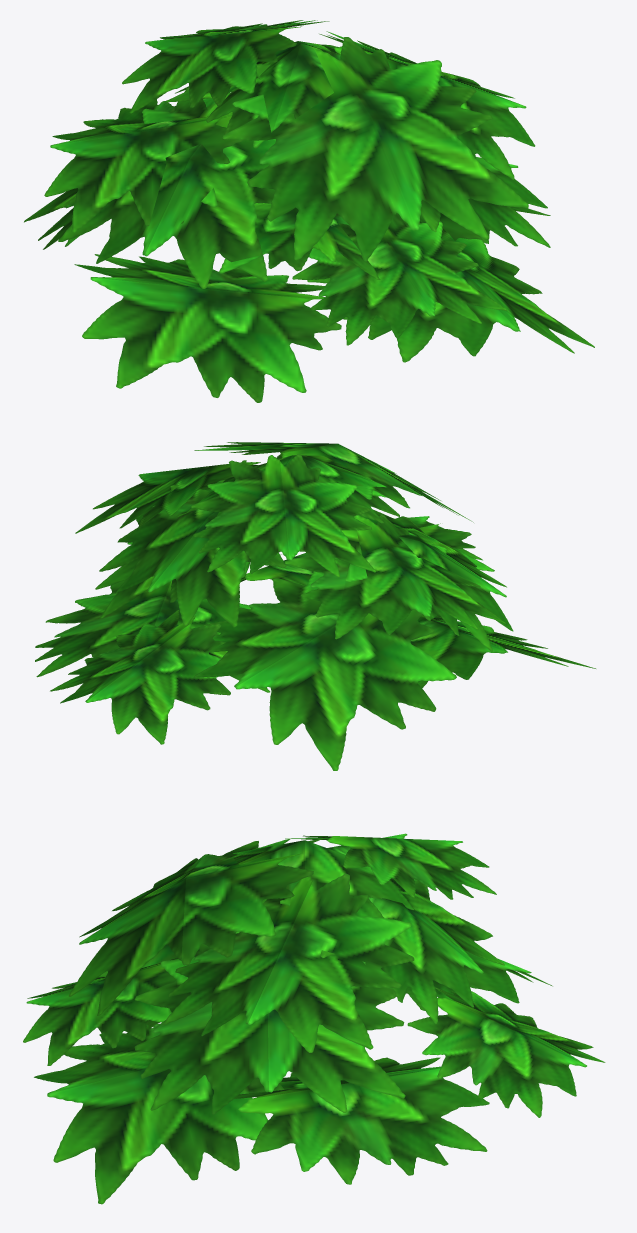
Rendered from hua07.FBX.
3 views of the same model, one above another, from view 1: azimuth 30°, elevation 25°; view 2: azimuth 150°, elevation 25°; view 3: azimuth 270°, elevation 25° (orthographic). The views are drawn at different scales.
Parts seen in each view (by area): view 1: Bush_01_b; view 2: Bush_01_b; view 3: Bush_01_b.
Part boxes in pixels (<box>): Bush_01_b: <box>24,20,594,402</box>; Bush_01_b: <box>35,442,595,770</box>; Bush_01_b: <box>23,833,605,1204</box>.
Bounding box in the file's own units: 6.49 × 3.2 × 6.
